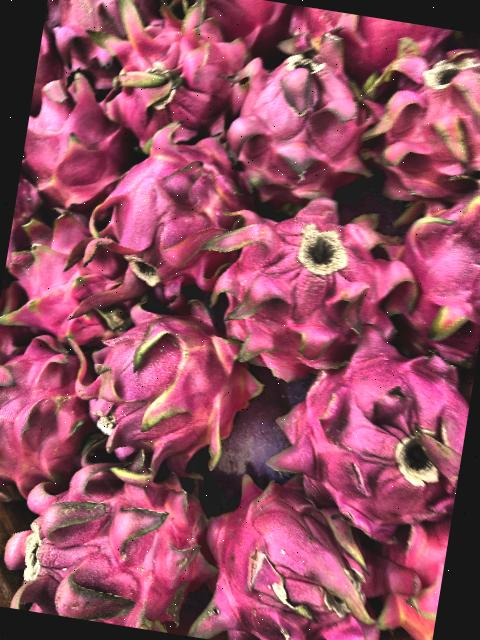buah-naga-matang: (266, 314, 480, 548), (0, 451, 235, 639), (63, 292, 270, 484), (198, 183, 397, 380), (187, 466, 400, 640), (213, 34, 377, 206), (94, 122, 252, 292), (86, 3, 254, 142), (1, 208, 144, 348), (364, 32, 480, 196), (18, 66, 138, 208), (388, 179, 480, 359), (0, 330, 98, 490), (40, 0, 161, 70)
